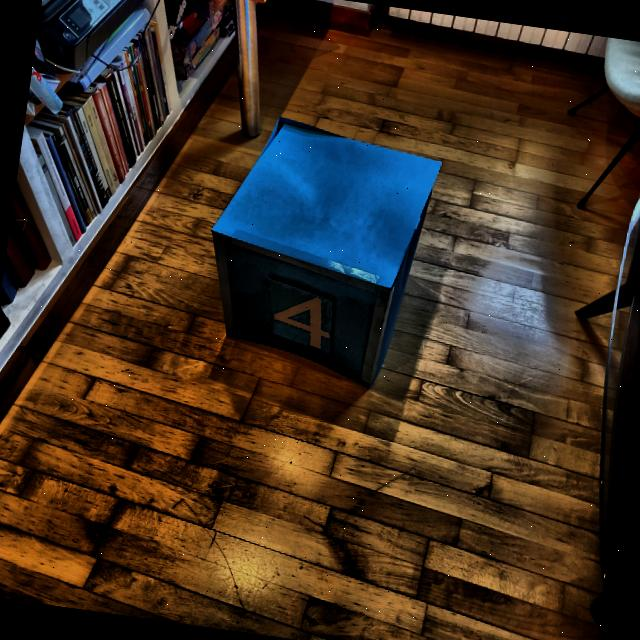blue box: (191, 108, 439, 393)
four: (266, 286, 340, 354)
